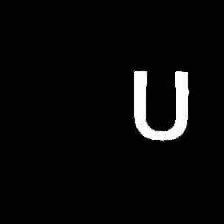LTR_U: (123, 62, 197, 147)
